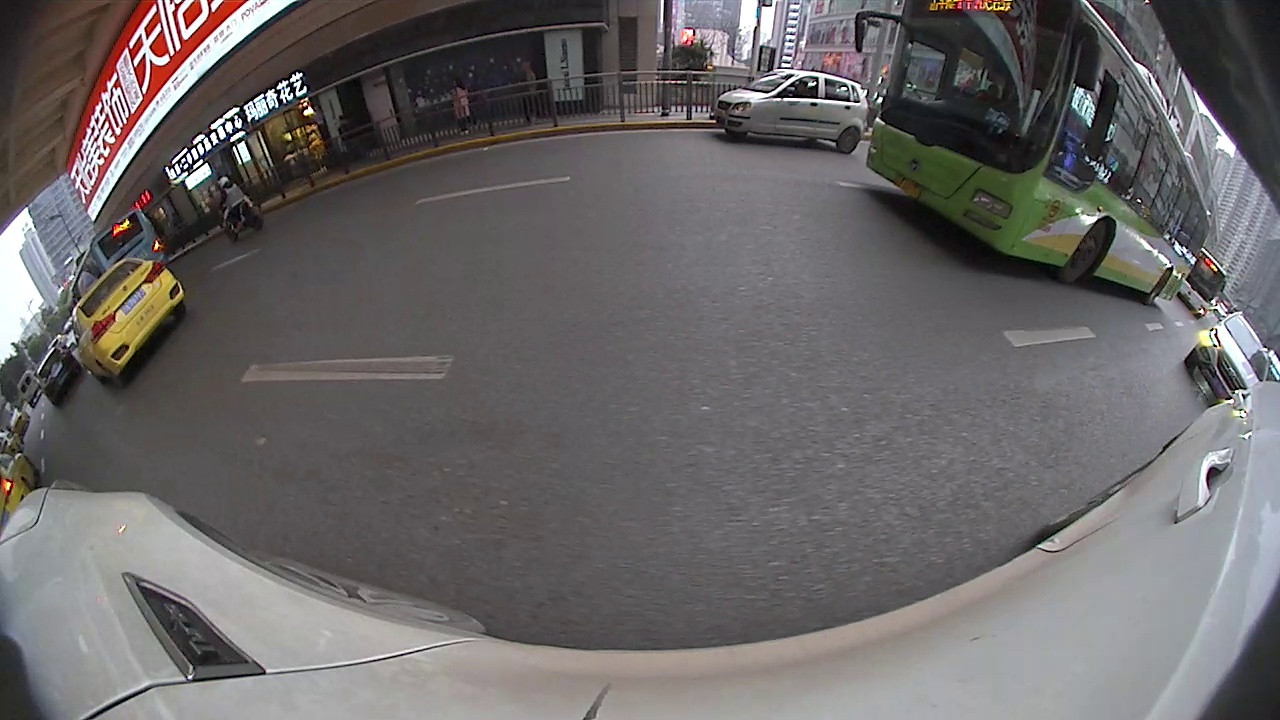bus: (863, 1, 1218, 307), (69, 204, 166, 307), (1180, 250, 1234, 316)
car: (64, 249, 186, 383), (714, 70, 869, 151), (1184, 309, 1273, 414), (37, 346, 79, 404)
front: (1064, 218, 1113, 282)
rear: (838, 125, 862, 151)
rider: (208, 177, 263, 248)
